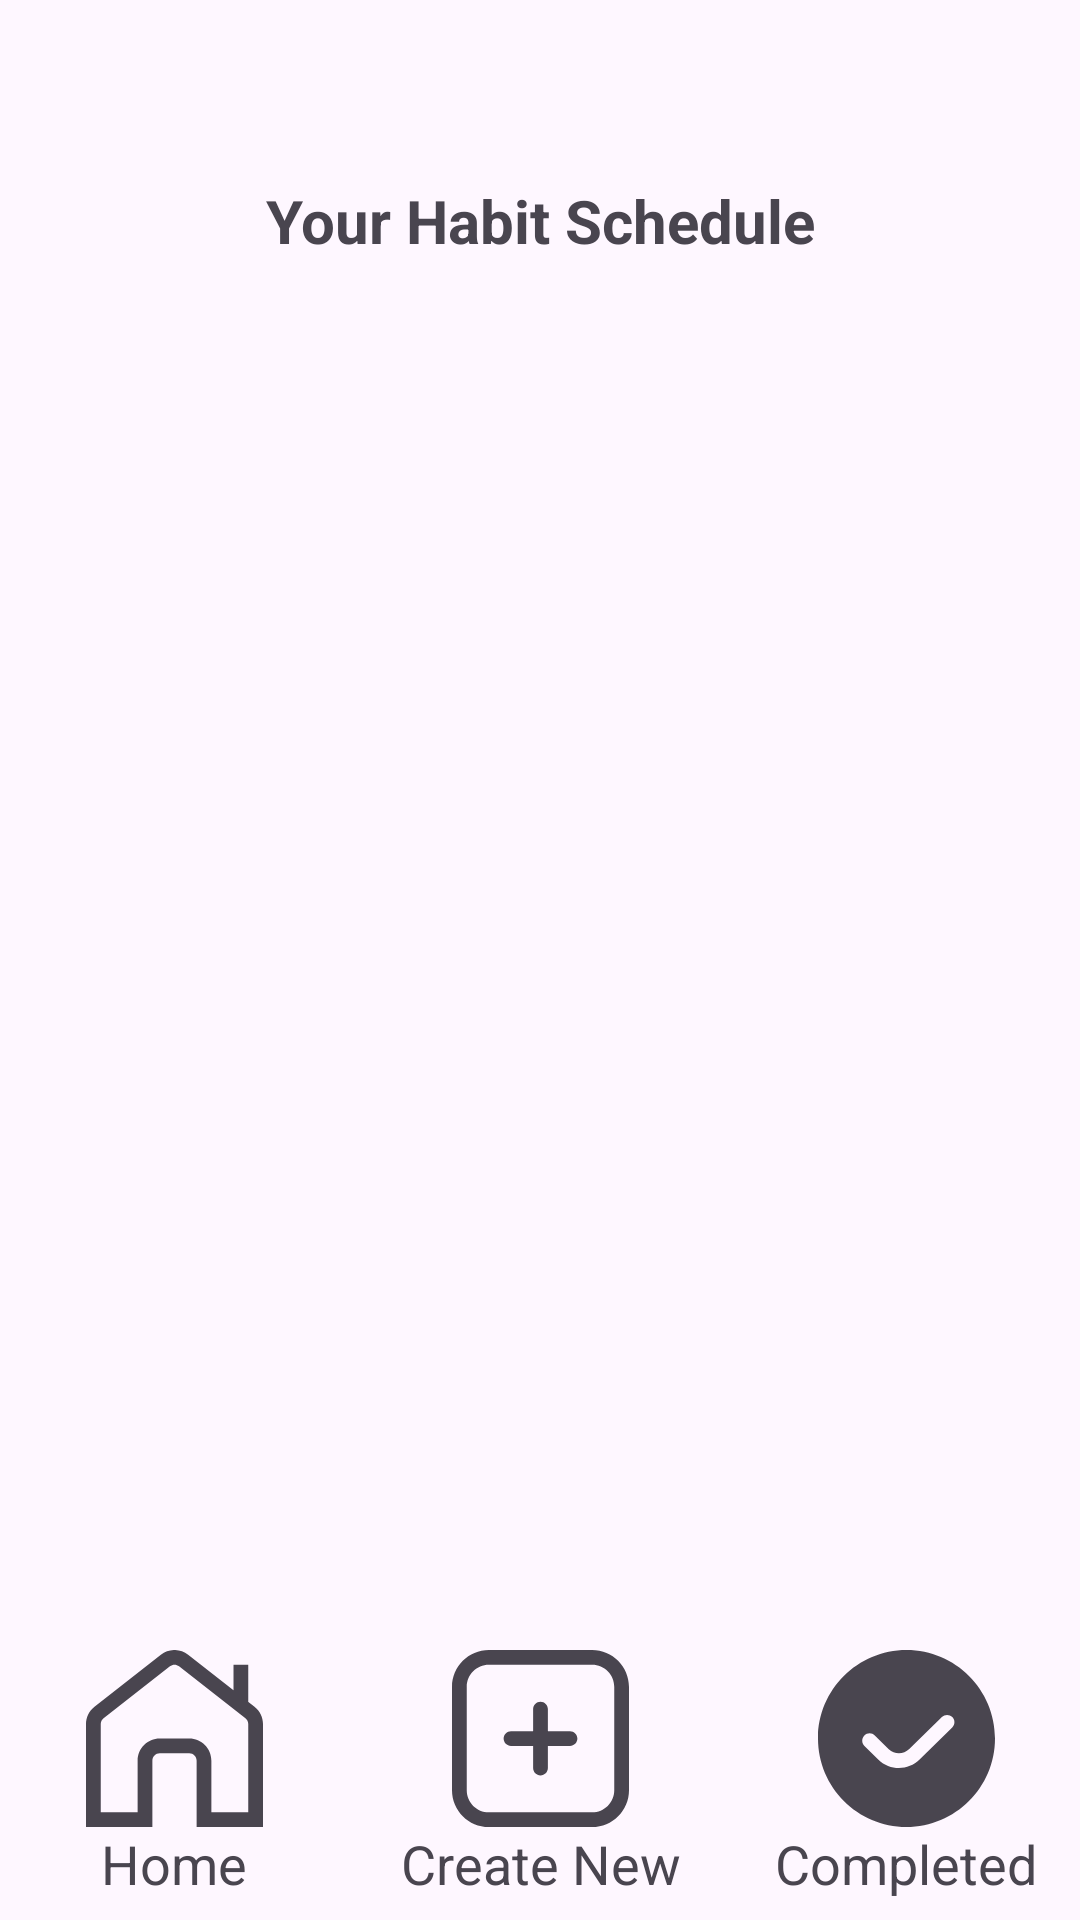

Where icons sit on this 1080w x 1920h app screen, as [x1=x1, y1=y1, x2=x2, y2=y2]:
check circle: [x1=818, y1=1650, x2=995, y2=1827]
